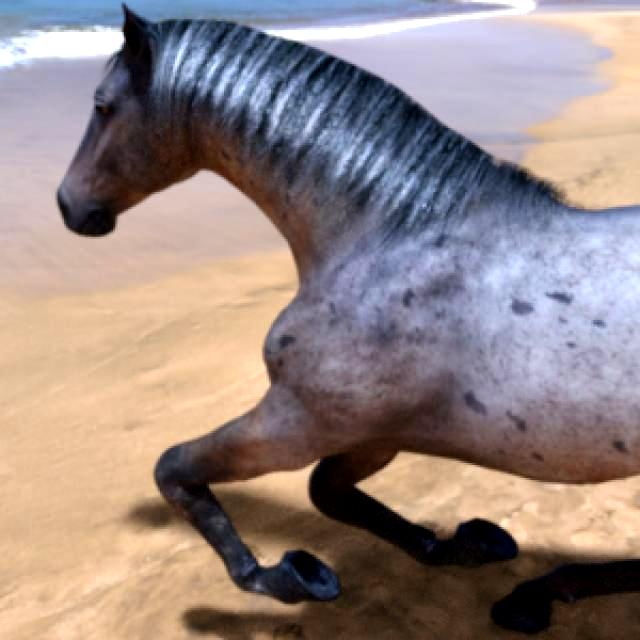horse: (58, 9, 640, 602)
